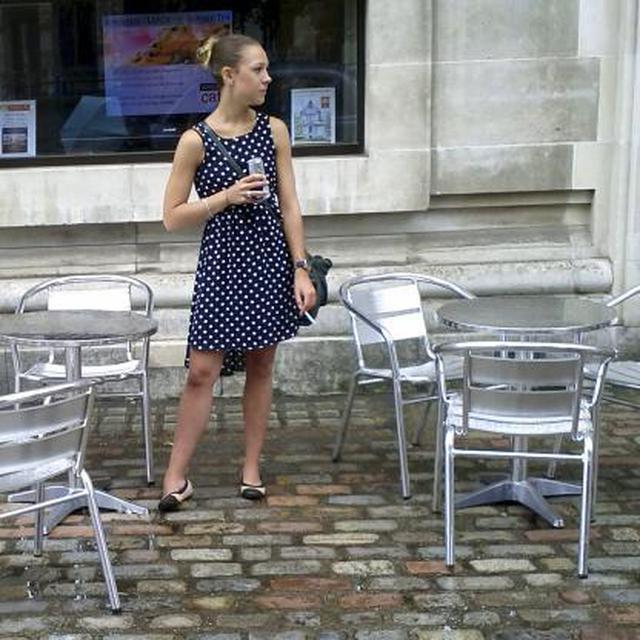smoking: (302, 307, 321, 328)
